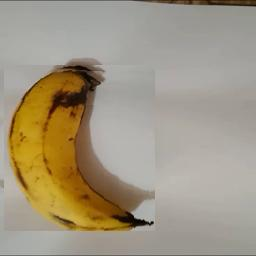Banana Semifresh: (4, 65, 155, 231)
